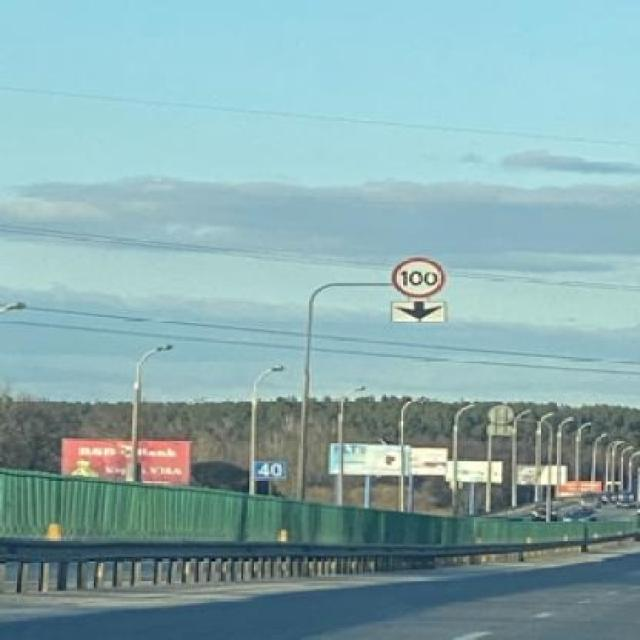forb_speed_over_100: (393, 254, 447, 300)
